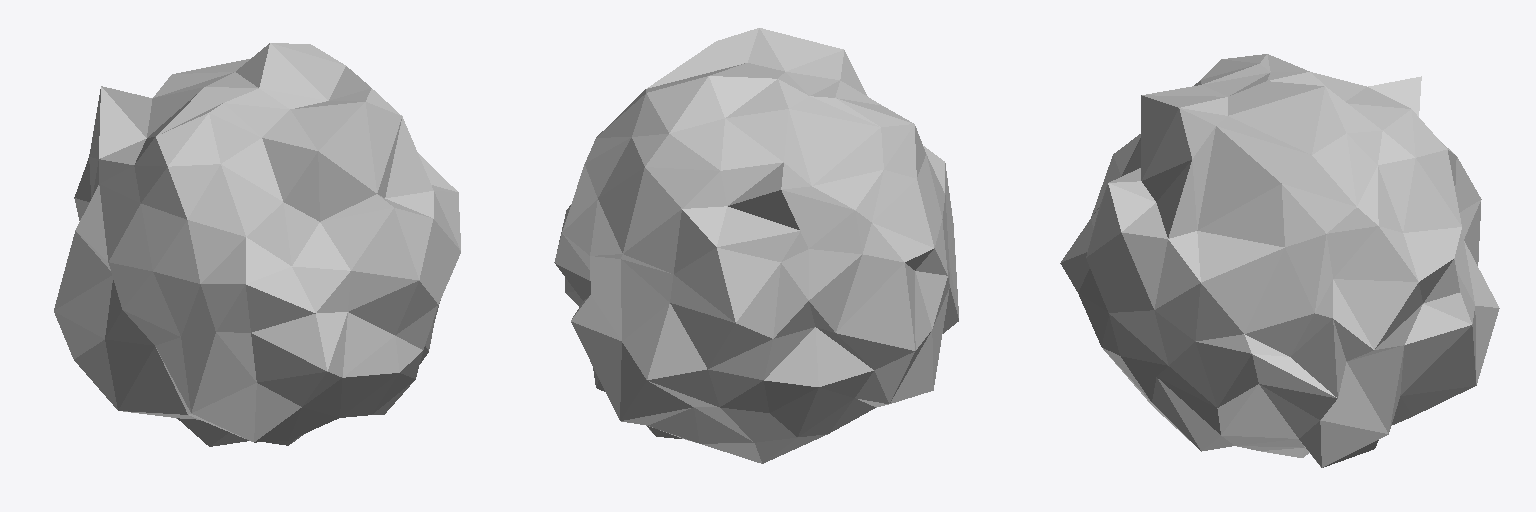
The model's file is fire_000006.obj.
3 views of the same model, side by side, from view 1: azimuth 30°, elevation 25°; view 2: azimuth 150°, elevation 25°; view 3: azimuth 270°, elevation 25° (orthographic).
Parts seen in each view (by area): view 1: Icosphere; view 2: Icosphere; view 3: Icosphere.
Boxes of the visible parts, x1,y1,x2,y2 form: Icosphere: [54, 43, 460, 446]; Icosphere: [554, 28, 958, 463]; Icosphere: [1060, 54, 1499, 467].
Size of the model in its own units: 1.53 by 1.57 by 1.67.